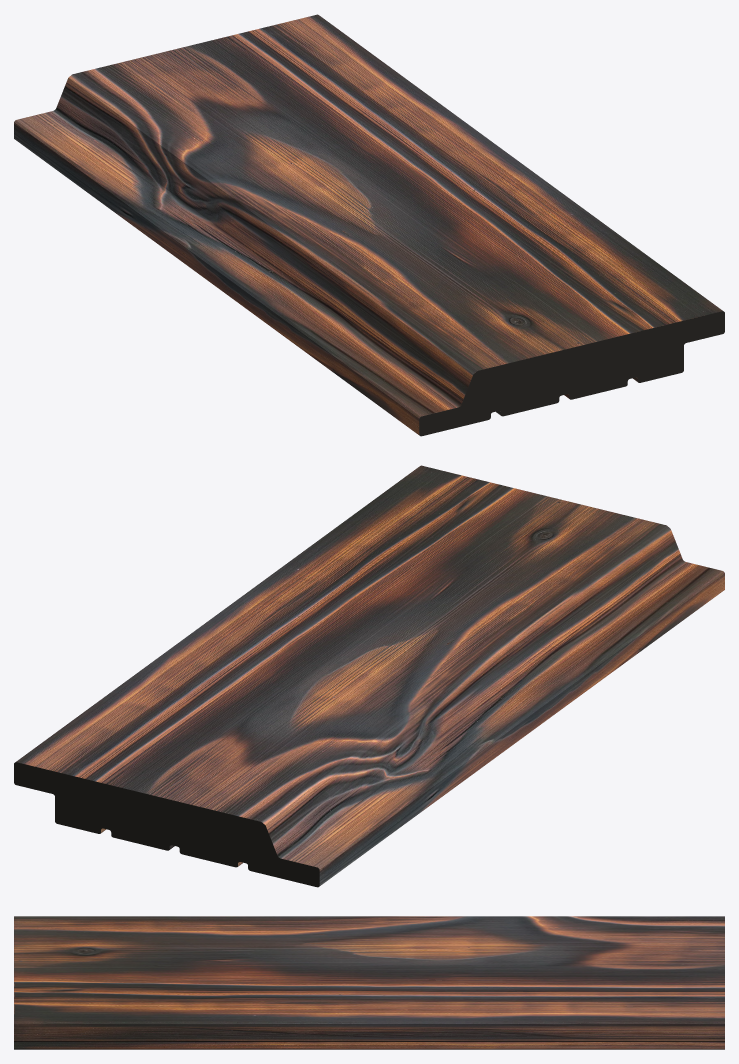
The model's file is larch-facade-half-tenon-natural.glb.
3 renders of one model, top to bottom at view 1: azimuth 30°, elevation 25°; view 2: azimuth 150°, elevation 25°; view 3: azimuth 270°, elevation 25°, orthographic. The views are drawn at different scales.
Visible parts, largest first — view 1: Pusė_Špunto; view 2: Pusė_Špunto; view 3: Pusė_Špunto.
Boxes of the visible parts, x1=… form: Pusė_Špunto: x1=14, y1=14, x2=724, y2=436; Pusė_Špunto: x1=14, y1=465, x2=724, y2=887; Pusė_Špunto: x1=14, y1=916, x2=724, y2=1049.
Size of the model in its own units: 0.0723 by 0.0117 by 0.166.
3 materials, 1 textured.
